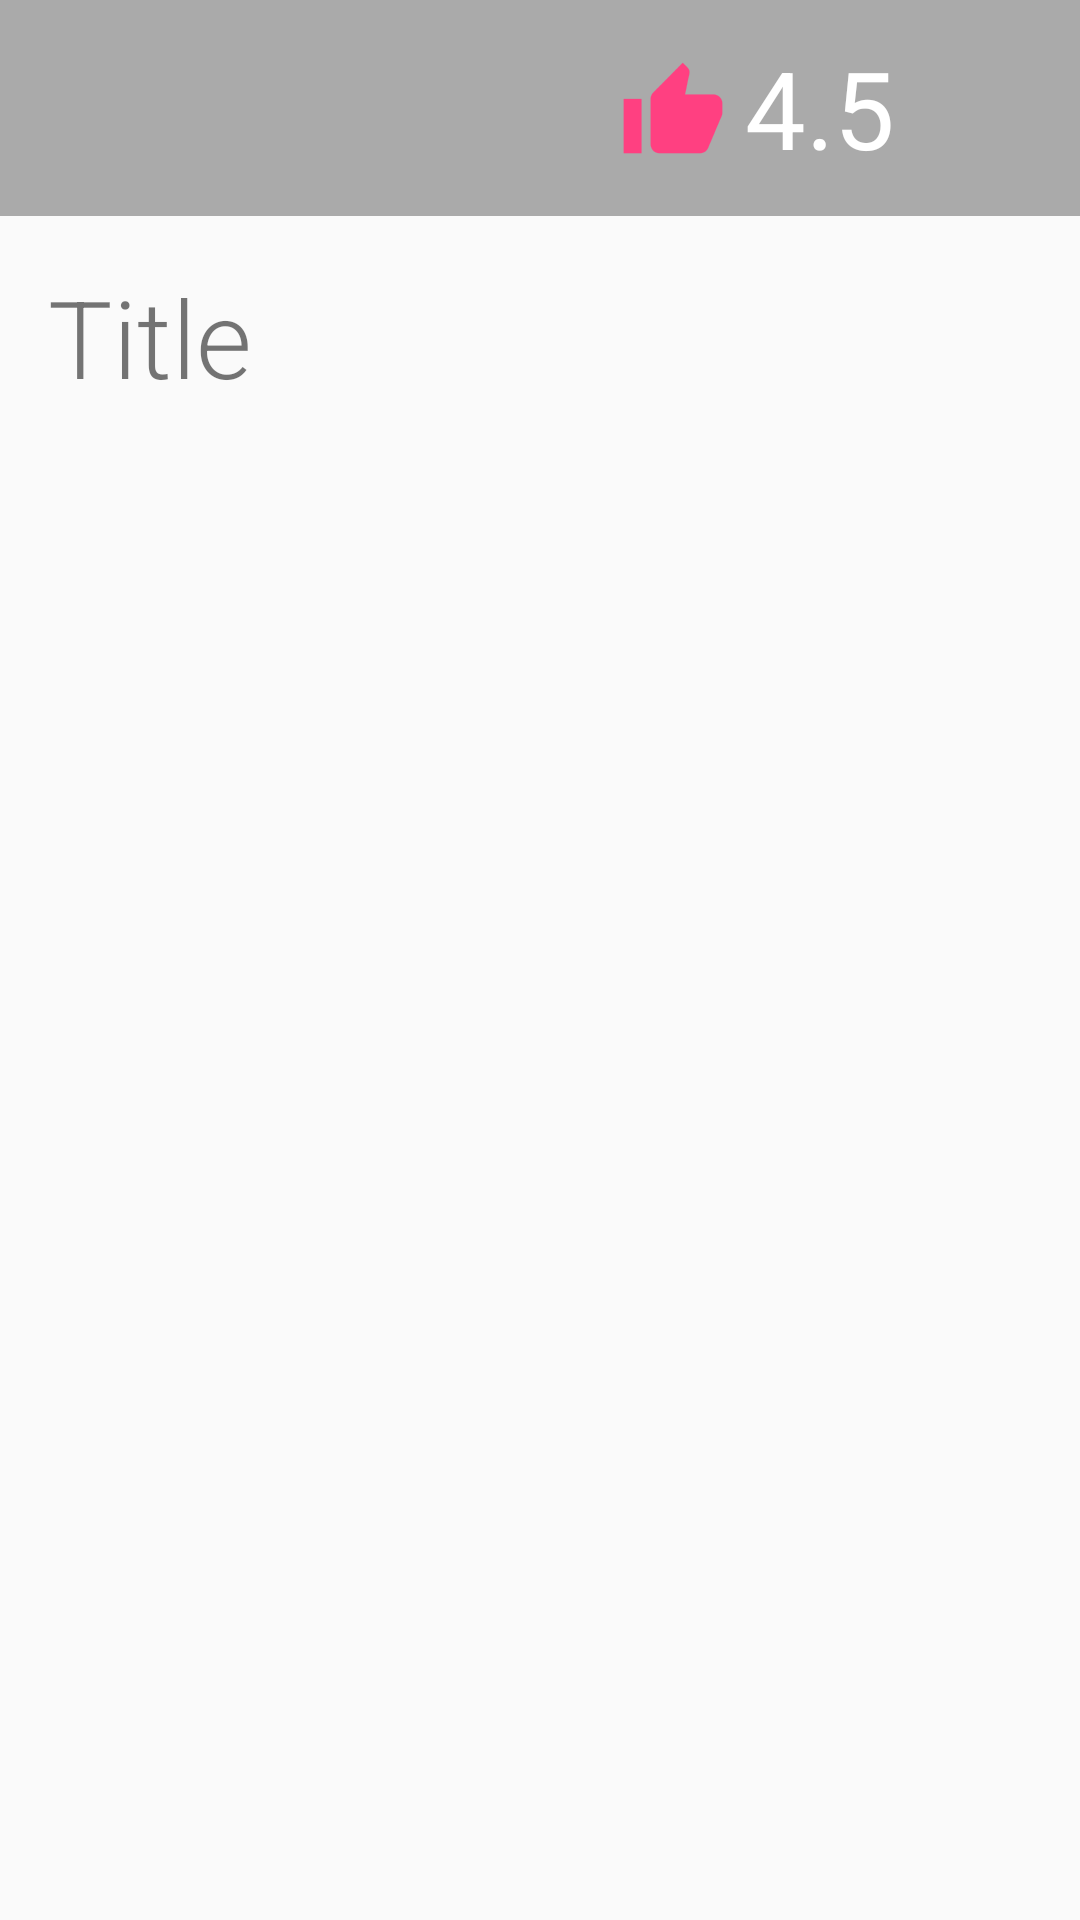

Locate icon controls on the screen. Image size 1080 × 1920, boxes as (x1, y1, x2, y2).
vote: (623, 63, 723, 154)
